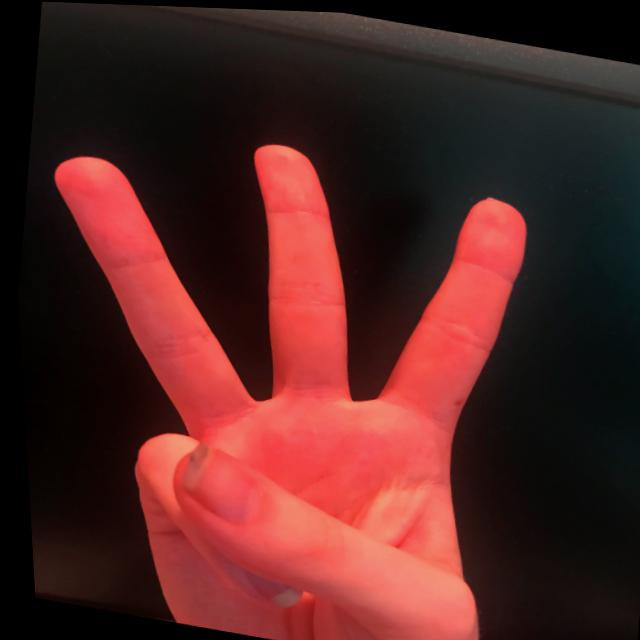W: (4, 99, 561, 639)
